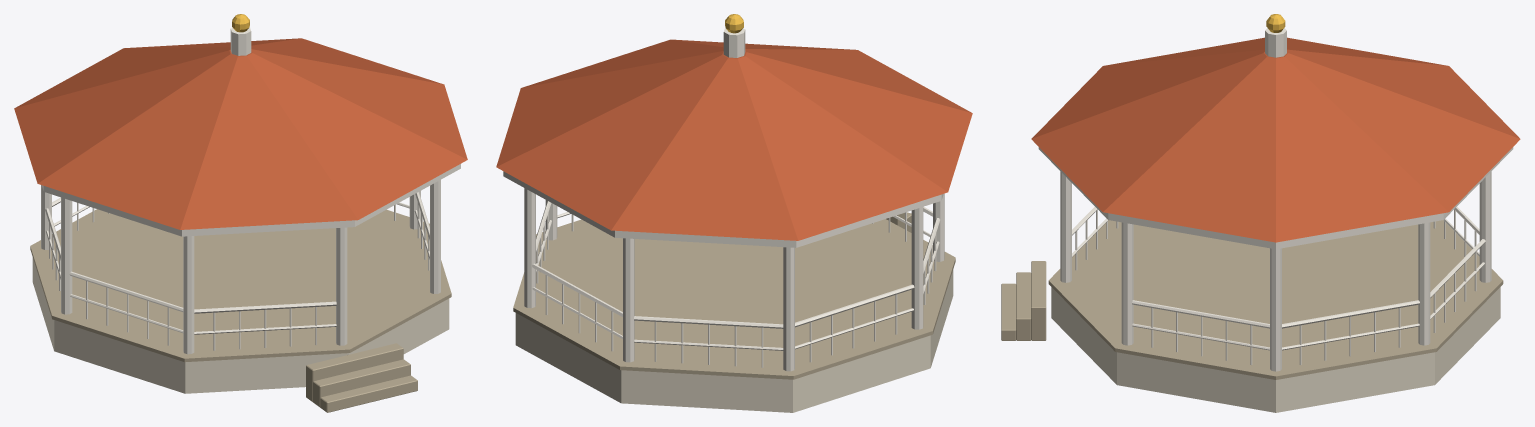
File: coreto.glb
3 views of the same model, side by side, from view 1: azimuth 30°, elevation 25°; view 2: azimuth 150°, elevation 25°; view 3: azimuth 270°, elevation 25° (orthographic). The views are drawn at different scales.
Visible parts, largest first — view 1: coreto; view 2: coreto; view 3: coreto.
Part boxes in pixels (x1,y1,x2,y2): coreto: (14,14,467,412); coreto: (496,14,972,412); coreto: (1001,14,1520,412).
Size of the model in its own units: 9.8 by 6.7 by 10.4.
